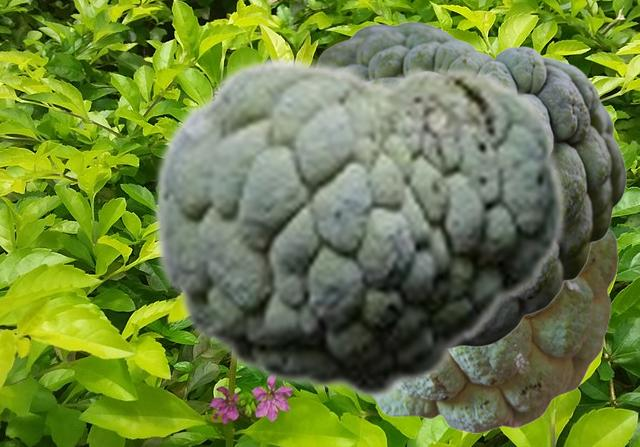atis: (151, 54, 567, 400), (317, 21, 625, 349), (373, 227, 617, 432)
